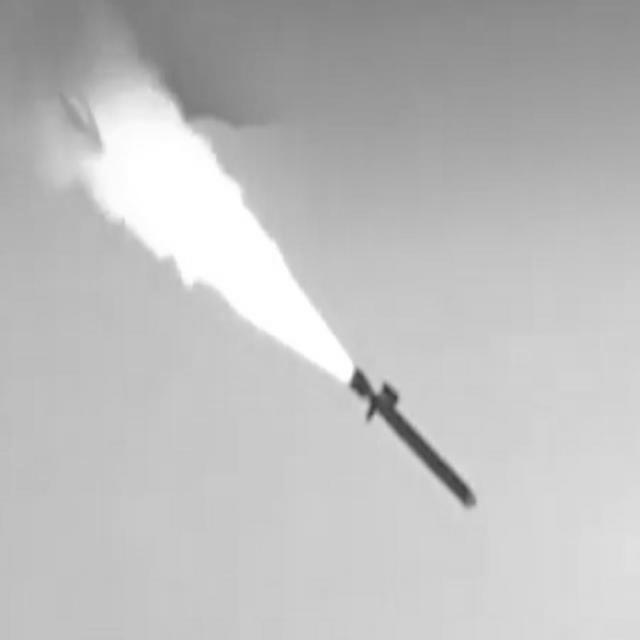missile: (337, 347, 478, 515)
